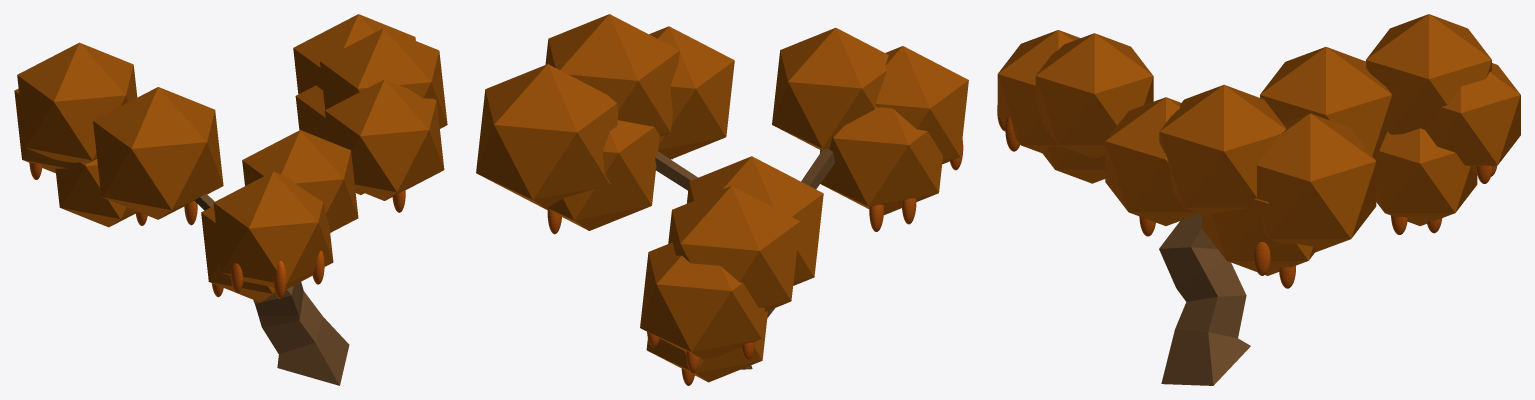
File: Arvore2.fbx
3 views of the same model, side by side, from view 1: azimuth 30°, elevation 25°; view 2: azimuth 150°, elevation 25°; view 3: azimuth 270°, elevation 25° (orthographic). The views are drawn at different scales.
Visible parts, largest first — view 1: Icosphere.010, Icosphere.004, Icosphere.001, Icosphere.006, Icosphere.003, Icosphere, Cube, Icosphere.005, Icosphere.008, Icosphere.002, Icosphere.009, Icosphere.007 (+1 smaller); view 2: Icosphere.005, Icosphere.006, Icosphere, Icosphere.007, Icosphere.003, Icosphere.002, Icosphere.004, Icosphere.001, Icosphere.009, Icosphere.010, Icosphere.008, Cube; view 3: Icosphere.005, Icosphere.003, Cube, Icosphere, Icosphere.006, Icosphere.010, Icosphere.008, Icosphere.004, Icosphere.007, Icosphere.001, Icosphere.009, Icosphere.002 (+1 smaller).
Part boxes in pixels (<box>): Icosphere.010: <box>93,87,223,219</box>; Icosphere.004: <box>325,79,444,200</box>; Icosphere.001: <box>213,171,333,287</box>; Icosphere.006: <box>17,42,137,163</box>; Icosphere.003: <box>320,28,447,128</box>; Icosphere: <box>242,130,358,232</box>; Cube: <box>194,193,349,385</box>; Icosphere.005: <box>293,14,415,94</box>; Icosphere.008: <box>55,159,137,227</box>; Icosphere.002: <box>201,206,312,302</box>; Icosphere.009: <box>295,85,364,194</box>; Icosphere.007: <box>14,88,70,173</box>; Icosphere.005: <box>476,64,618,210</box>; Icosphere.006: <box>668,185,800,311</box>; Icosphere: <box>772,27,888,149</box>; Icosphere.007: <box>640,242,764,359</box>; Icosphere.003: <box>545,14,679,136</box>; Icosphere.002: <box>820,107,942,214</box>; Icosphere.004: <box>649,26,734,159</box>; Icosphere.001: <box>875,46,968,164</box>; Icosphere.009: <box>547,120,659,230</box>; Icosphere.010: <box>687,156,823,285</box>; Icosphere.008: <box>646,311,767,382</box>; Cube: <box>655,148,834,369</box>; Icosphere.005: <box>1256,113,1376,252</box>; Icosphere.003: <box>1159,84,1285,216</box>; Cube: <box>1159,126,1388,385</box>; Icosphere: <box>1035,33,1153,157</box>; Icosphere.006: <box>1366,14,1491,134</box>; Icosphere.010: <box>1260,47,1392,160</box>; Icosphere.008: <box>1376,128,1477,225</box>; Icosphere.004: <box>1105,97,1199,225</box>; Icosphere.007: <box>1425,63,1520,173</box>; Icosphere.001: <box>997,30,1080,153</box>; Icosphere.009: <box>1201,198,1315,275</box>; Icosphere.002: <box>1042,145,1105,183</box>.
Size of the model in its own units: 6957 by 6332 by 8909.
